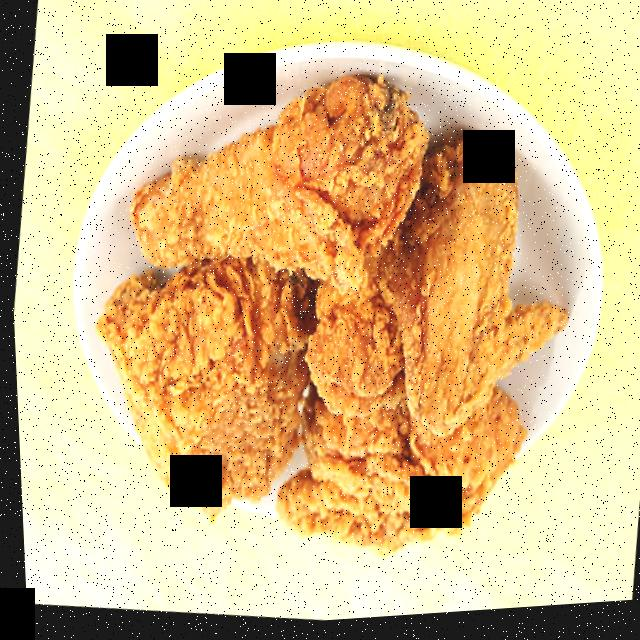Frango: (54, 32, 601, 601)
